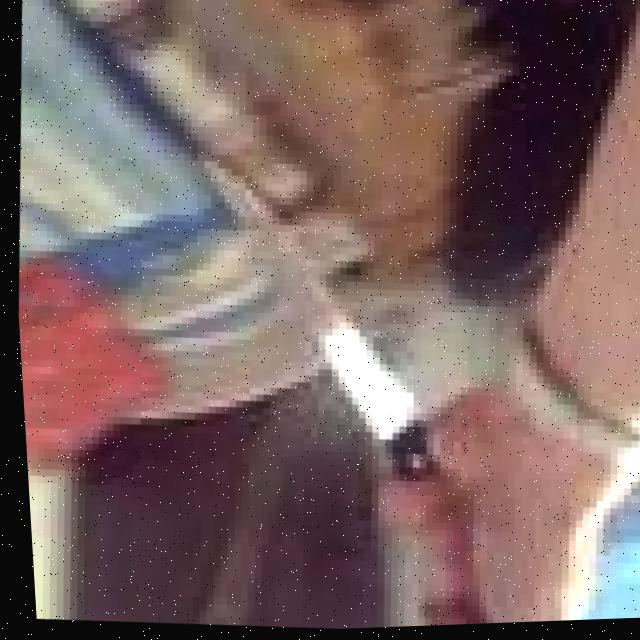knife: (155, 130, 481, 498)
